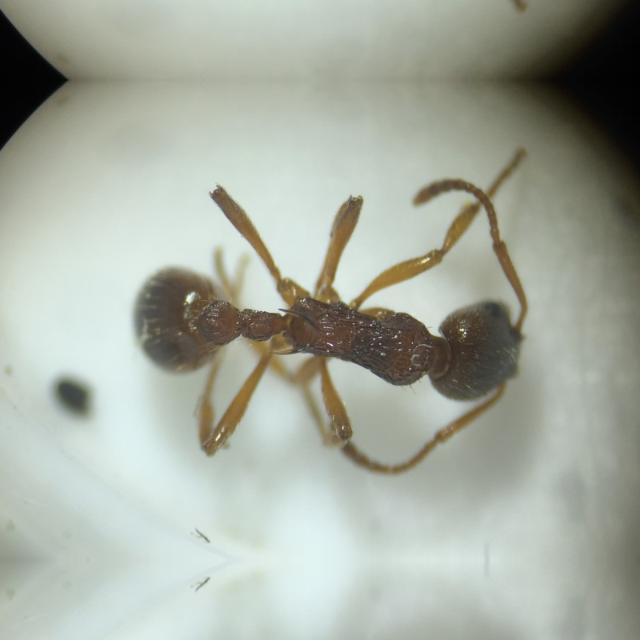Myrmica: (110, 215, 534, 452)
